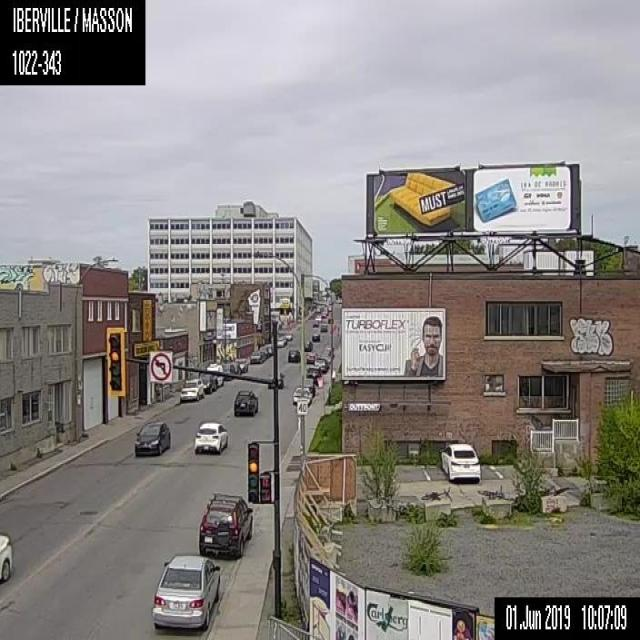vehicle: (150, 552, 221, 631), (197, 491, 253, 558), (439, 442, 481, 483), (133, 418, 170, 455), (193, 419, 227, 453), (232, 388, 257, 415), (0, 532, 13, 580), (180, 376, 203, 402), (205, 362, 224, 386), (291, 384, 311, 404), (198, 371, 216, 392), (305, 364, 321, 383), (221, 362, 234, 380), (314, 355, 327, 372), (234, 357, 248, 372), (288, 347, 300, 362), (250, 350, 263, 362), (305, 351, 319, 362), (258, 345, 268, 357), (275, 336, 287, 346), (264, 342, 273, 355), (302, 339, 312, 350), (310, 331, 320, 341), (320, 322, 328, 332), (314, 312, 322, 322), (284, 331, 292, 340), (312, 319, 318, 327)
